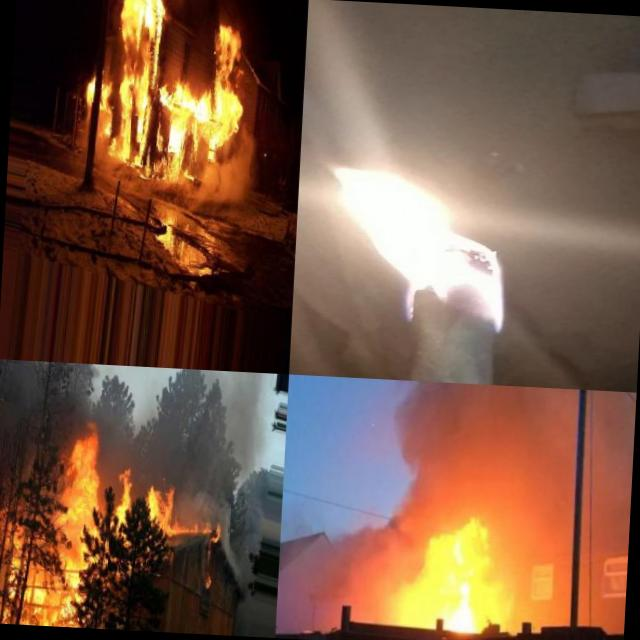fire: (292, 116, 543, 334), (46, 422, 102, 628), (109, 0, 164, 181), (154, 66, 246, 152), (423, 535, 492, 634), (0, 501, 52, 626), (140, 471, 176, 540), (208, 14, 244, 70), (111, 453, 136, 528), (154, 145, 196, 186), (170, 522, 222, 550), (98, 74, 114, 134), (80, 70, 98, 106), (204, 564, 214, 595)
smoke: (333, 379, 580, 514), (302, 499, 429, 626), (138, 367, 276, 478), (0, 359, 59, 467), (192, 155, 262, 214), (100, 364, 142, 454), (172, 472, 235, 524), (57, 362, 105, 425), (232, 477, 264, 560), (70, 116, 89, 170), (240, 120, 260, 158), (228, 558, 248, 595), (94, 136, 110, 182), (222, 524, 232, 558)
